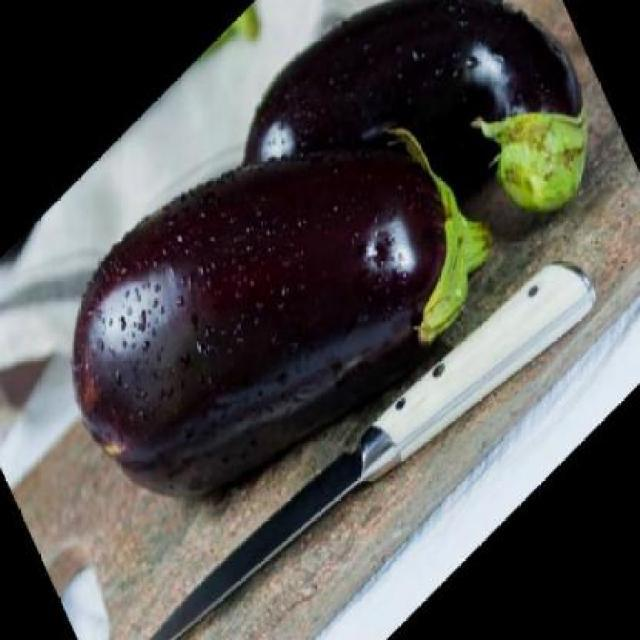eggplant: (73, 128, 498, 490), (246, 2, 586, 214)
